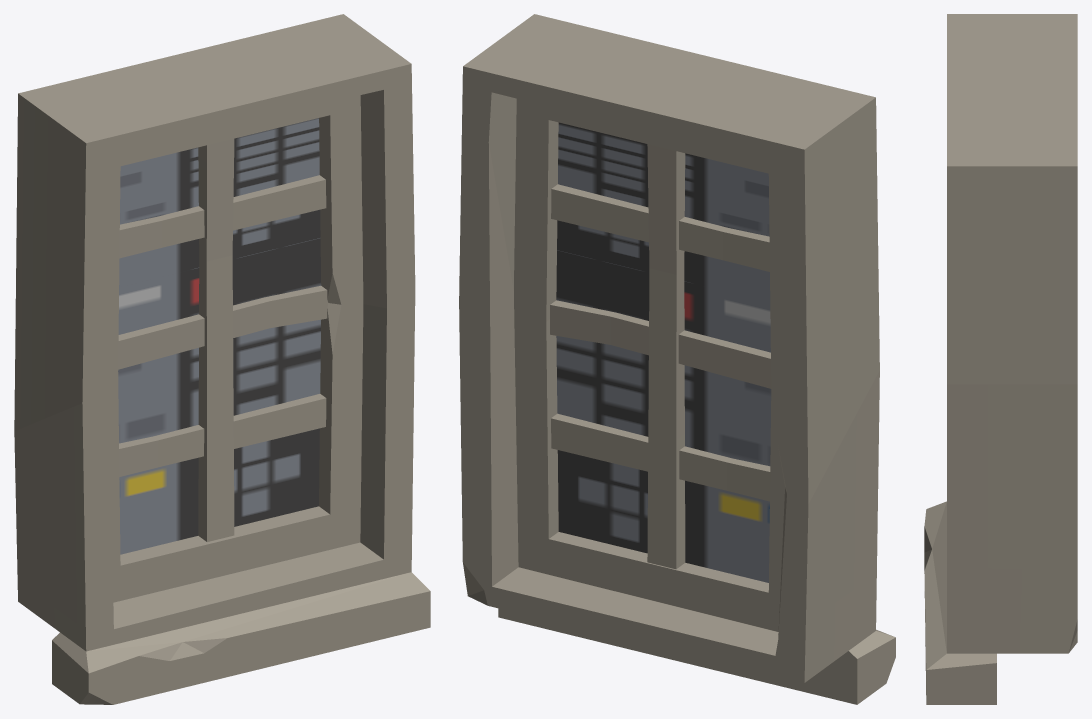
The model's file is SM_Bld_House_Window_04.fbx.
3 renders of one model, left to right at view 1: azimuth 30°, elevation 25°; view 2: azimuth 150°, elevation 25°; view 3: azimuth 270°, elevation 25°, orthographic. The views are drawn at different scales.
Visible parts, largest first — view 1: SM_Bld_House_Window_04, SM_Bld_House_Window_Glass_04; view 2: SM_Bld_House_Window_04, SM_Bld_House_Window_Glass_04; view 3: SM_Bld_House_Window_04.
Boxes of the visible parts, x1,y1,x2,y2 form: SM_Bld_House_Window_04: [14, 14, 430, 704]; SM_Bld_House_Window_Glass_04: [118, 118, 321, 554]; SM_Bld_House_Window_04: [459, 14, 895, 704]; SM_Bld_House_Window_Glass_04: [556, 122, 771, 582]; SM_Bld_House_Window_04: [924, 14, 1077, 704].
Size of the model in its own units: 122 by 190 by 49.39.
